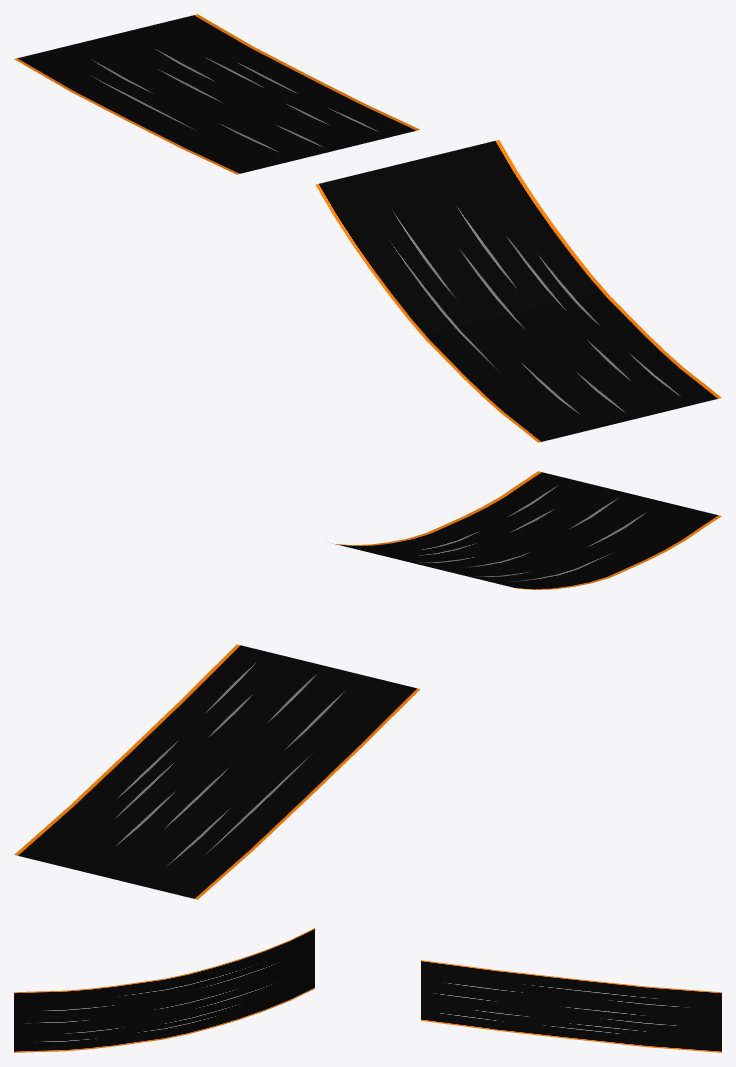
File: TrackJump.fbx
3 views of the same model, one above another, from view 1: azimuth 30°, elevation 25°; view 2: azimuth 150°, elevation 25°; view 3: azimuth 270°, elevation 25° (orthographic). The views are drawn at different scales.
Parts seen in each view (by area): view 1: Jump; view 2: Jump; view 3: Jump.
Boxes of the visible parts, x1,y1,x2,y2 form: Jump: (14, 14, 721, 442); Jump: (14, 471, 721, 899); Jump: (14, 928, 721, 1052).
Bounding box in the file's own units: 81 × 40 × 400.
